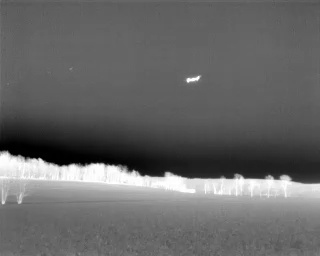DRONE: (182, 71, 204, 88)
